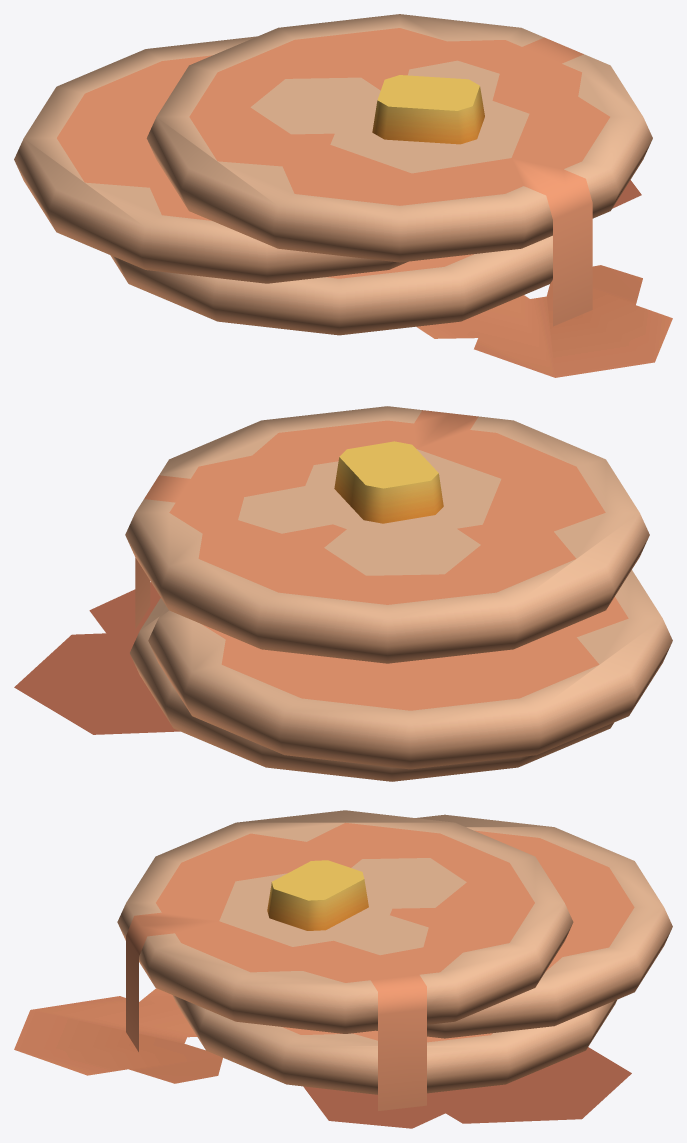
File: food.pancakes.glb
3 renders of one model, top to bottom at view 1: azimuth 30°, elevation 25°; view 2: azimuth 150°, elevation 25°; view 3: azimuth 270°, elevation 25°, orthographic. The views are drawn at different scales.
Parts seen in each view (by area): view 1: pancake (×3), pancakes, butter; view 2: pancake (×3), pancakes, butter; view 3: pancake (×3), pancakes, butter.
Boxes of the visible parts, x1,y1,x2,y2 form: pancake (×3): (14, 14, 652, 335); pancakes: (416, 180, 672, 377); butter: (372, 75, 484, 144); pancake (×3): (125, 406, 672, 781); pancakes: (14, 582, 180, 734); butter: (334, 441, 443, 523); pancake (×3): (117, 810, 672, 1110); pancakes: (14, 988, 631, 1128); butter: (267, 860, 368, 930).
Size of the model in its own units: 0.1294 by 0.0361 by 0.1497.
Materials: 1 (1 with a texture image).
